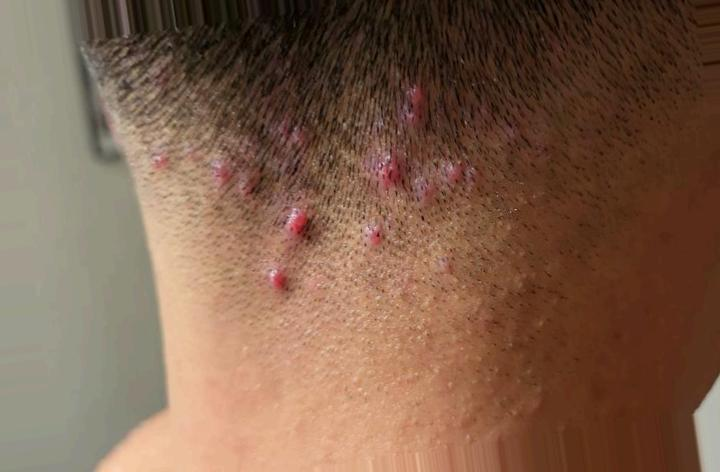Folliculitis: (225, 101, 478, 310)
